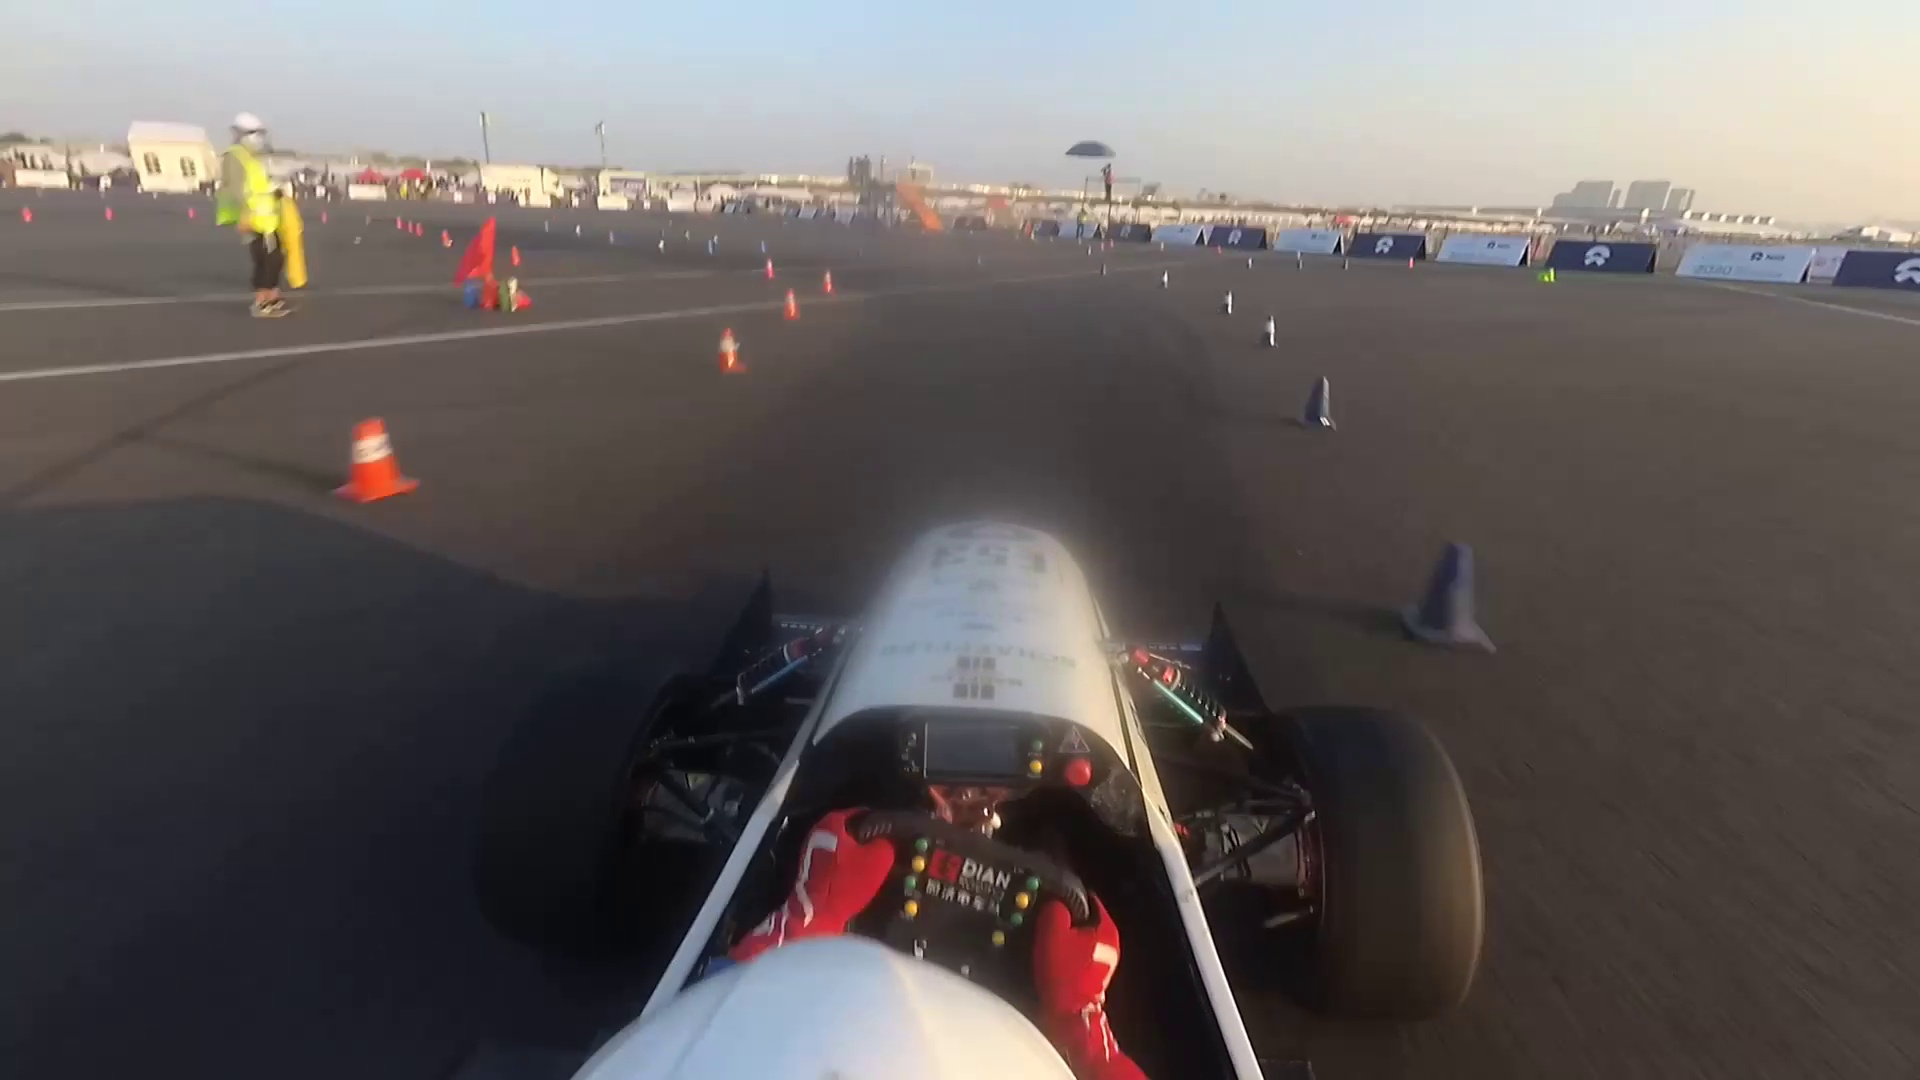blue_cone: (1385, 534, 1516, 669), (1299, 369, 1341, 431), (1257, 315, 1282, 352), (1220, 287, 1237, 318), (654, 239, 671, 262), (1156, 266, 1172, 291), (571, 224, 585, 251), (709, 231, 724, 256), (605, 228, 618, 255), (757, 235, 771, 257), (1341, 253, 1354, 276), (542, 218, 556, 237), (704, 239, 717, 258), (1098, 262, 1112, 280), (1245, 253, 1257, 272), (683, 229, 694, 248), (1291, 251, 1305, 264), (1298, 258, 1305, 274), (1087, 244, 1095, 257), (1159, 243, 1168, 253)
red_cone: (328, 394, 444, 526), (705, 318, 746, 386), (777, 281, 803, 328), (822, 262, 851, 298), (761, 258, 785, 286), (440, 224, 462, 253), (506, 239, 525, 269), (99, 200, 119, 225), (17, 203, 36, 225), (414, 218, 429, 239), (322, 208, 335, 225), (187, 203, 198, 224), (406, 214, 415, 235), (393, 214, 404, 232), (1408, 256, 1418, 269), (1215, 243, 1224, 256)
